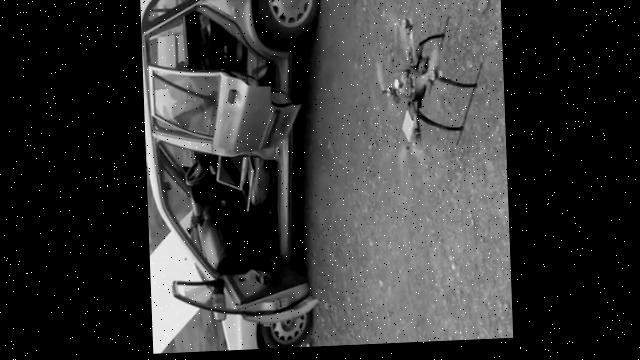drone: (368, 0, 483, 176)
